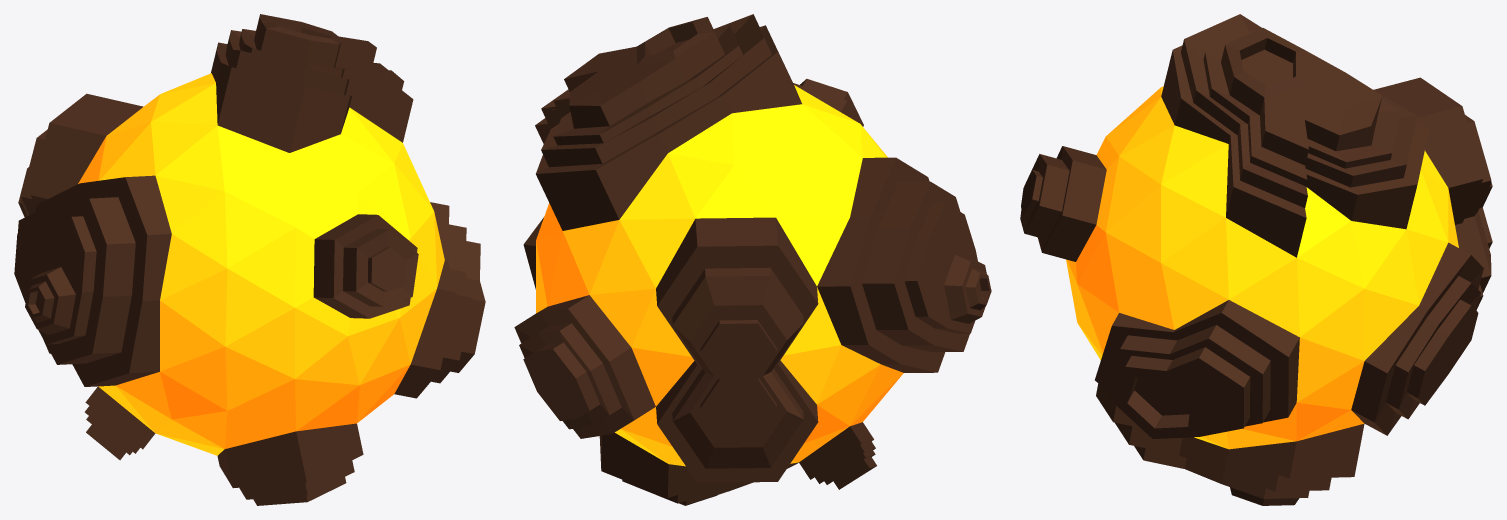
File: planet_fire.glb
The picture shows the model from 3 angles, left to right: view 1: azimuth 30°, elevation 25°; view 2: azimuth 150°, elevation 25°; view 3: azimuth 270°, elevation 25°; orthographic projection. The views are drawn at different scales.
Parts seen in each view (by area): view 1: pPlatonic25; view 2: pPlatonic25; view 3: pPlatonic25.
Boxes of the visible parts, x1,y1,x2,y2 form: pPlatonic25: (14, 14, 485, 505); pPlatonic25: (514, 14, 991, 505); pPlatonic25: (1020, 14, 1492, 505).
Bounding box in the file's own units: 0.267 × 0.2628 × 0.2448.
